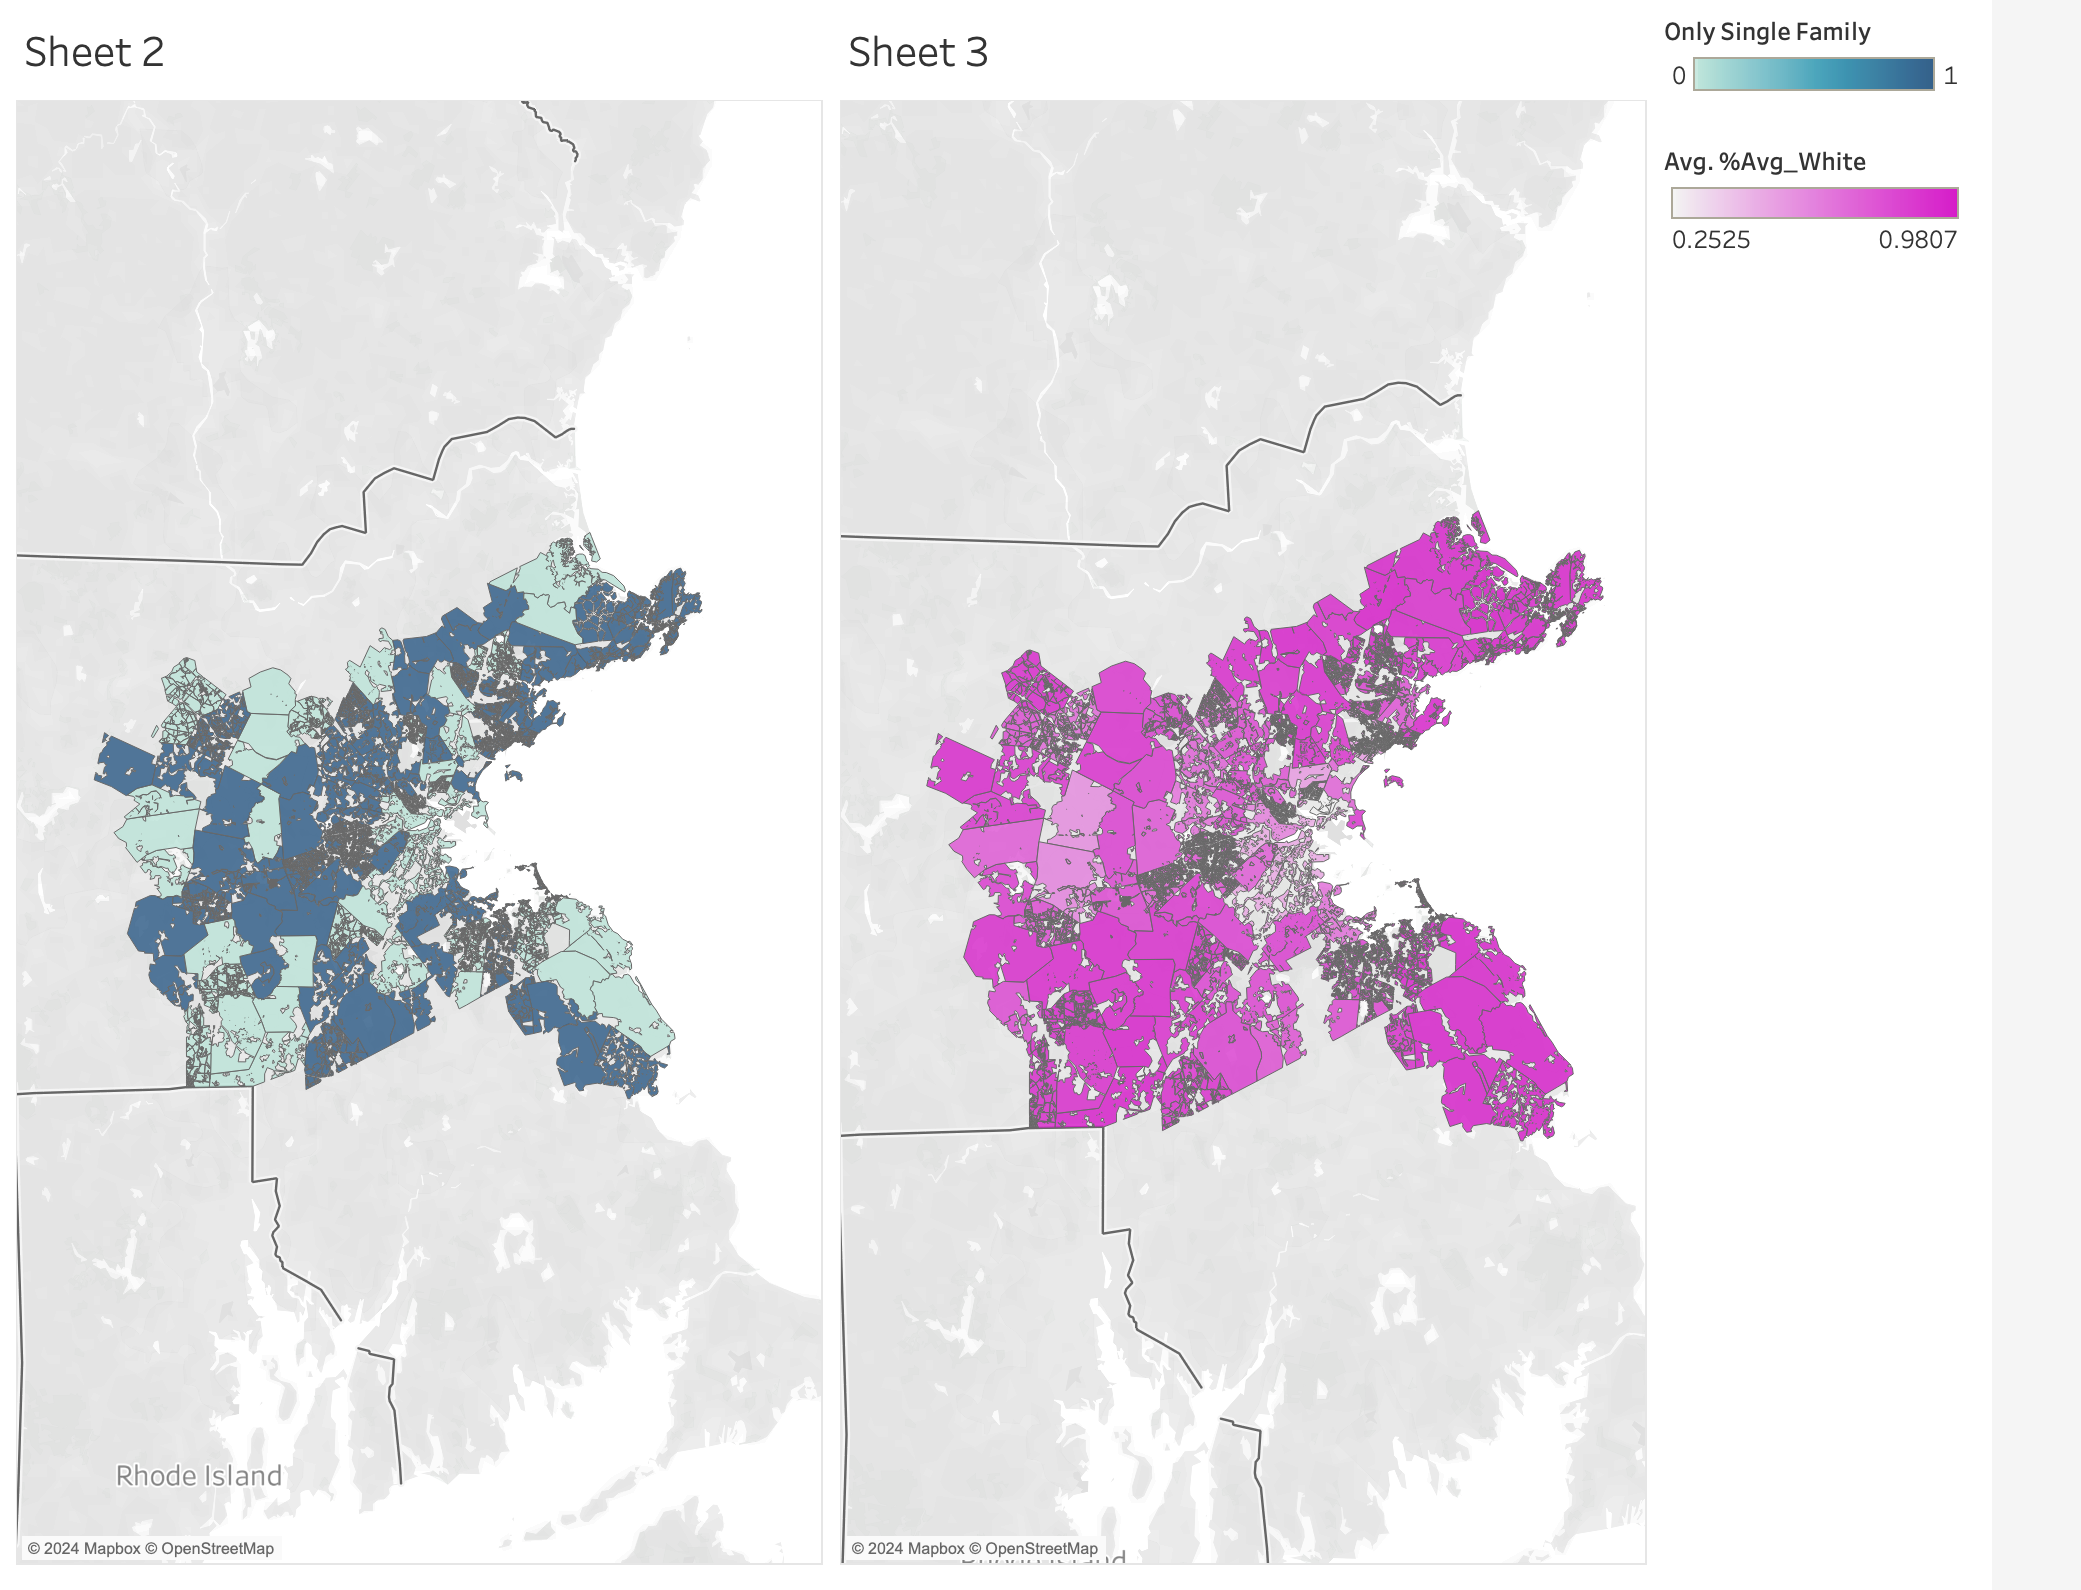

The page's visual inventory and layout, read from the dashboard file:
{"tool":"tableau","page":{"name":"Dashboard 1","canvas":[1000,800],"ordinal":0},"visuals":[{"type":"worksheet","title":"Sheet 2","mark":"Automatic","box":[8,8,412,784]},{"type":"worksheet","title":"Sheet 3","mark":"Multipolygon","box":[420,8,412,784]},{"type":"legend","title":"Sheet 2","param":"[federated.0x66dim0oepf8p1900d460o8j4wb].[sum:only_single_family:qk]","box":[832,8,160,65]},{"type":"legend","title":"Sheet 3","param":"[federated.0x66dim0oepf8p1900d460o8j4wb].[avg:Calculation_187462393482678277:qk]","box":[832,73,160,65]}]}

Visuals, with their boxes on the page's 1000x800 design canvas (x1, y1, x2, y2). These are canvas units, not pixel positions in the 2081x1590 screenshot, which may show the page scaled, cropped or inside an application window:
"Sheet 2" worksheet: locate(8, 8, 420, 792)
"Sheet 3" worksheet (Multipolygon marks): locate(420, 8, 832, 792)
"Sheet 2" legend: locate(832, 8, 992, 73)
"Sheet 3" legend: locate(832, 73, 992, 138)
